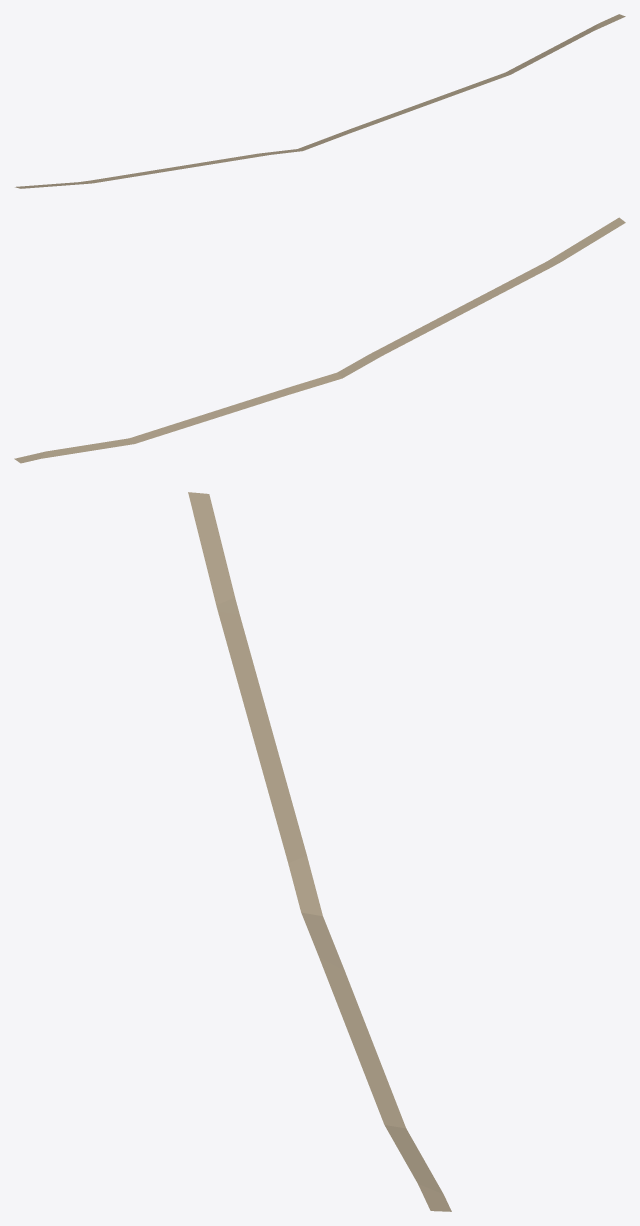
File: farm_-35_-41_track.glb
3 views of the same model, one above another, from view 1: azimuth 30°, elevation 25°; view 2: azimuth 210°, elevation 25°; view 3: azimuth 270°, elevation 25° (orthographic). The views are drawn at different scales.
Visible parts, largest first — view 1: geometry_0; view 2: geometry_0; view 3: geometry_0.
Part boxes in pixels (bbox=[...]): geometry_0: bbox=[15, 14, 625, 188]; geometry_0: bbox=[14, 217, 625, 463]; geometry_0: bbox=[188, 492, 451, 1211].
Size of the model in its own units: 234 by 20.27 by 40.02.
